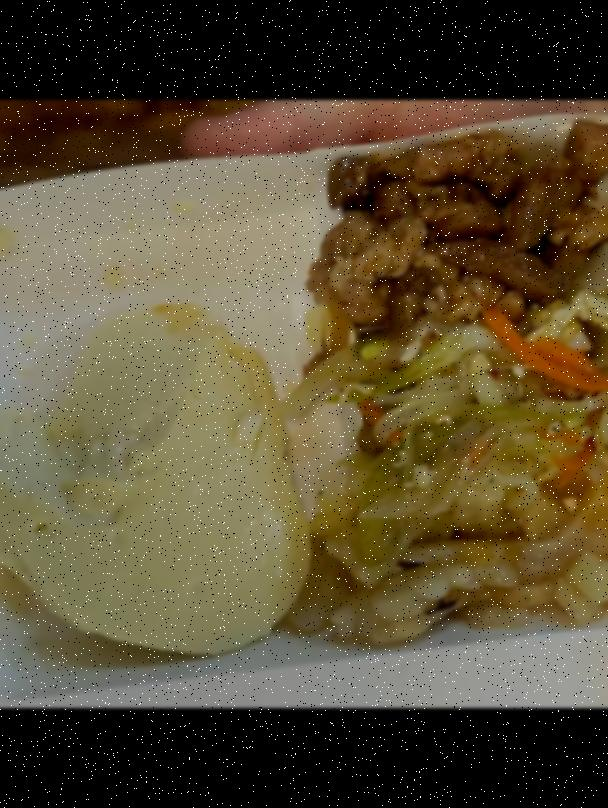box: (0, 106, 608, 667)
shacha pork: (318, 114, 608, 327)
side dish: (0, 297, 319, 656), (300, 463, 608, 643), (327, 308, 608, 481)
